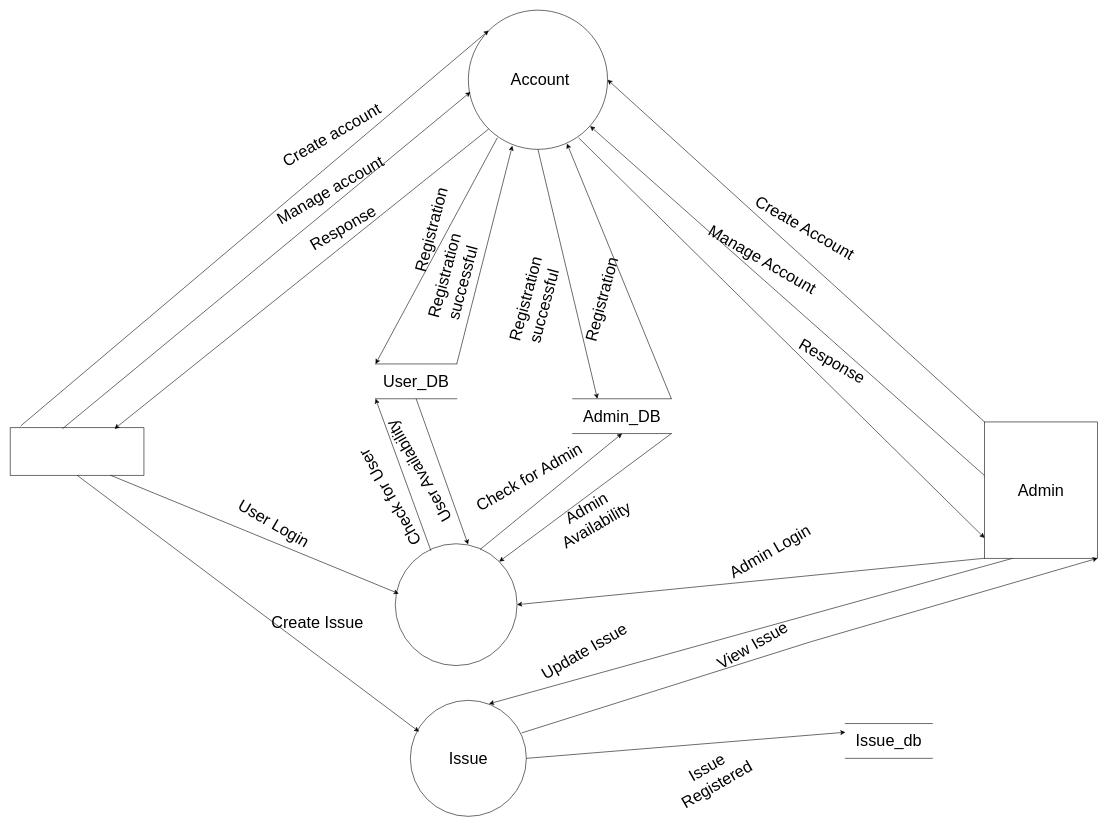
Some shapes in this 1112 by 829 pixel diagram are drawn without their labels. Each missing label, with the centre of its shape:
"Login" belongs at [456,604].
"User" belongs at [77,451].
